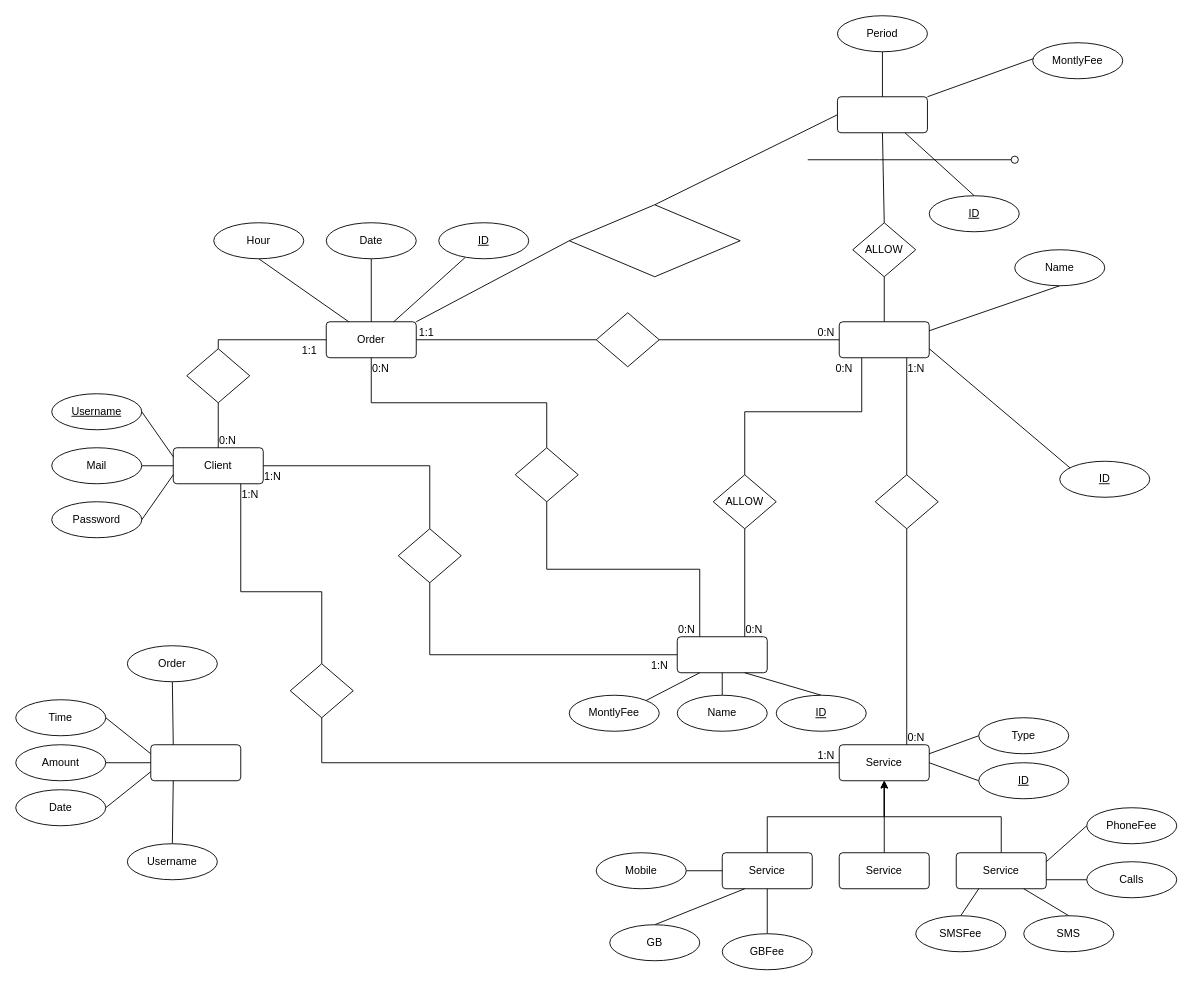
The diagram is 1193 pixels wide and 986 high, and some of its shapes have lost their labels. Each missing label, with the centre of its shape:
ACTIVATION: [429,555]
Auditing: [195,762]
CHOOSE: [654,240]
HISTORY: [321,690]
INCLUDE: [546,474]
OFFER: [906,501]
Optional_Product: [721,654]
ORDINATION: [218,375]
Service_Package: [883,339]
SHIPMENT: [627,339]
Validity: [882,114]
